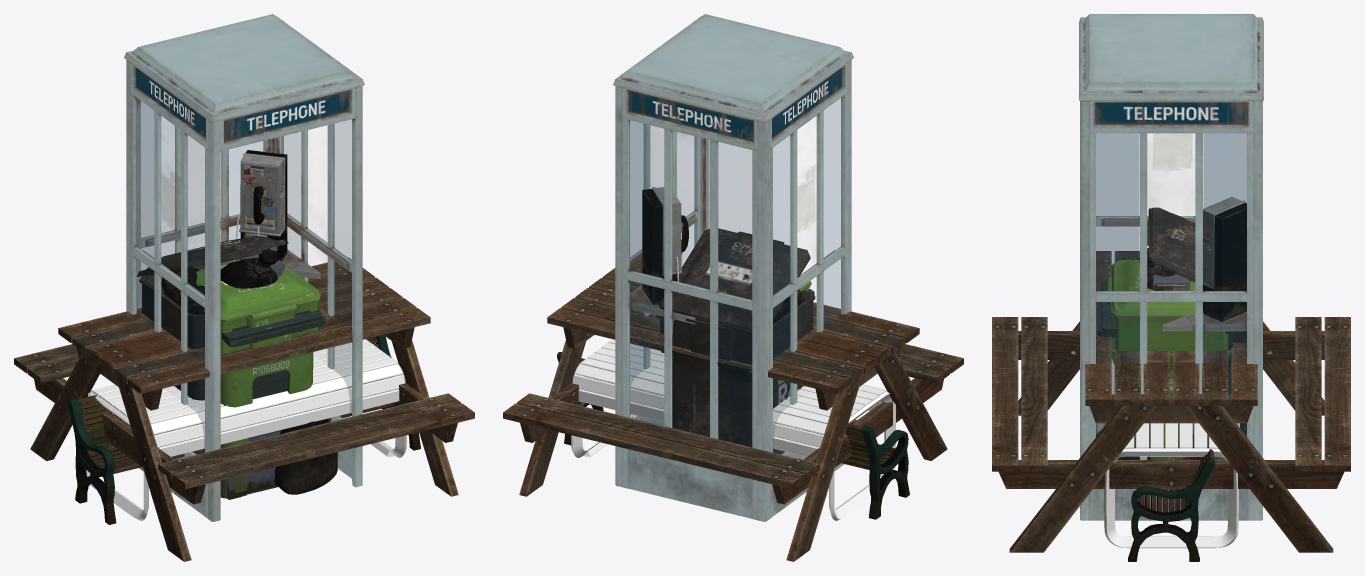
Rendered from st2_street.glb.
The picture shows the model from 3 angles, left to right: view 1: azimuth 30°, elevation 25°; view 2: azimuth 150°, elevation 25°; view 3: azimuth 270°, elevation 25°; orthographic projection. The views are drawn at different scales.
Visible parts, largest first — view 1: booth, picnic, bench2, bin_k, bin_g, bench, wheelie, newsbox; view 2: booth, picnic, bin_k, bench2, bench; view 3: booth, picnic, bin_g, bench2, bench, bin_k, wheelie, newsbox.
Part boxes in pixels (x1=…): booth: x1=124, y1=14, x2=364, y2=521; picnic: x1=14, y1=257, x2=474, y2=561; bench2: x1=82, y1=339, x2=406, y2=520; bin_k: x1=137, y1=236, x2=337, y2=494; bin_g: x1=196, y1=260, x2=322, y2=498; bench: x1=68, y1=335, x2=420, y2=524; wheelie: x1=222, y1=309, x2=325, y2=494; newsbox: x1=227, y1=254, x2=285, y2=499; booth: x1=613, y1=14, x2=853, y2=521; picnic: x1=503, y1=262, x2=963, y2=561; bin_k: x1=659, y1=228, x2=815, y2=454; bench2: x1=571, y1=339, x2=895, y2=520; bench: x1=557, y1=352, x2=909, y2=519; booth: x1=1079, y1=14, x2=1263, y2=520; picnic: x1=992, y1=251, x2=1350, y2=552; bin_g: x1=1107, y1=260, x2=1231, y2=459; bench2: x1=1103, y1=358, x2=1239, y2=548; bench: x1=1128, y1=433, x2=1214, y2=561; bin_k: x1=1096, y1=207, x2=1246, y2=459; wheelie: x1=1097, y1=279, x2=1235, y2=394; newsbox: x1=1153, y1=274, x2=1189, y2=290.
Size of the model in its own units: 1.9 by 2.4 by 1.8.
14 materials, 13 textured.
